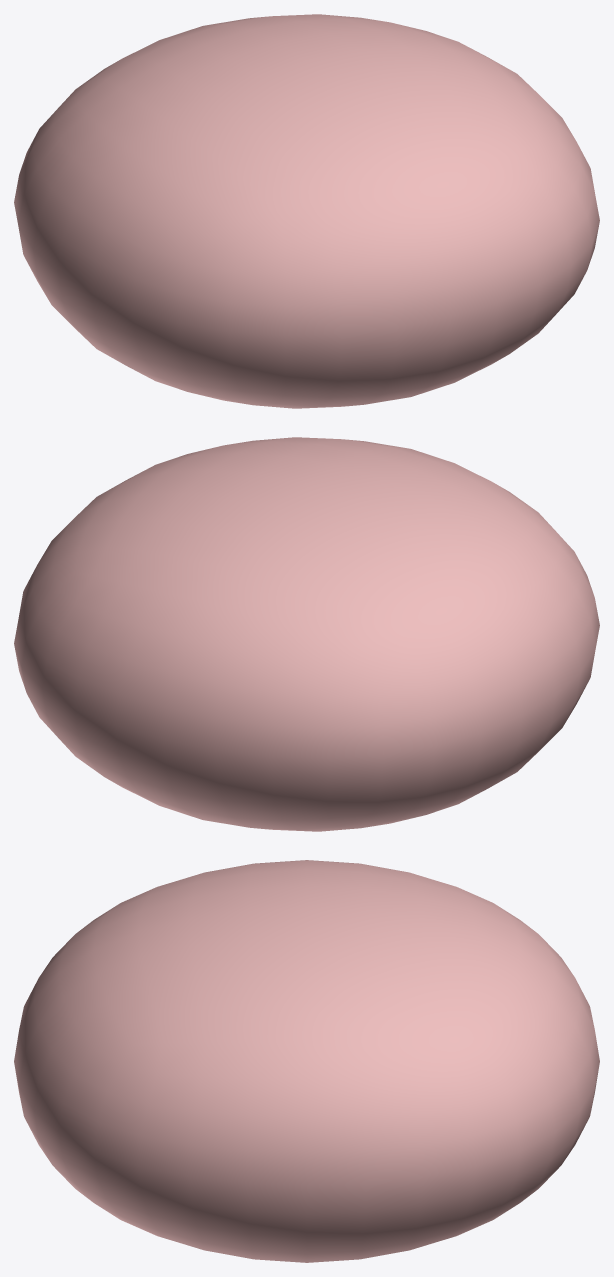
File: PROPS_GOODS_DOUGH_MODEL.fbx
3 renders of one model, top to bottom at view 1: azimuth 30°, elevation 25°; view 2: azimuth 150°, elevation 25°; view 3: azimuth 270°, elevation 25°, orthographic. The views are drawn at different scales.
Parts seen in each view (by area): view 1: PROPS_GOODS_DOUGH_MODEL; view 2: PROPS_GOODS_DOUGH_MODEL; view 3: PROPS_GOODS_DOUGH_MODEL.
Part boxes in pixels (x1=…): PROPS_GOODS_DOUGH_MODEL: x1=14, y1=14, x2=599, y2=408; PROPS_GOODS_DOUGH_MODEL: x1=14, y1=437, x2=599, y2=831; PROPS_GOODS_DOUGH_MODEL: x1=14, y1=860, x2=599, y2=1262.
Bounding box in the file's own units: 14.87 × 8.57 × 14.87.
